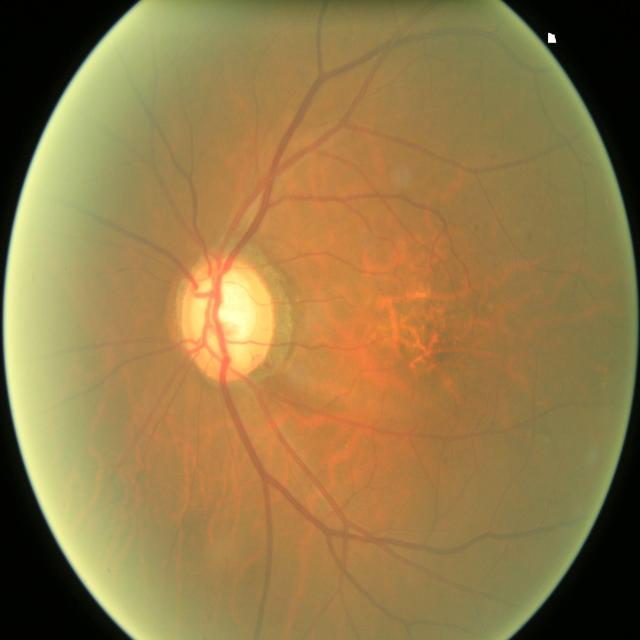OC: (192, 270, 255, 352)
OD: (176, 258, 275, 382)
